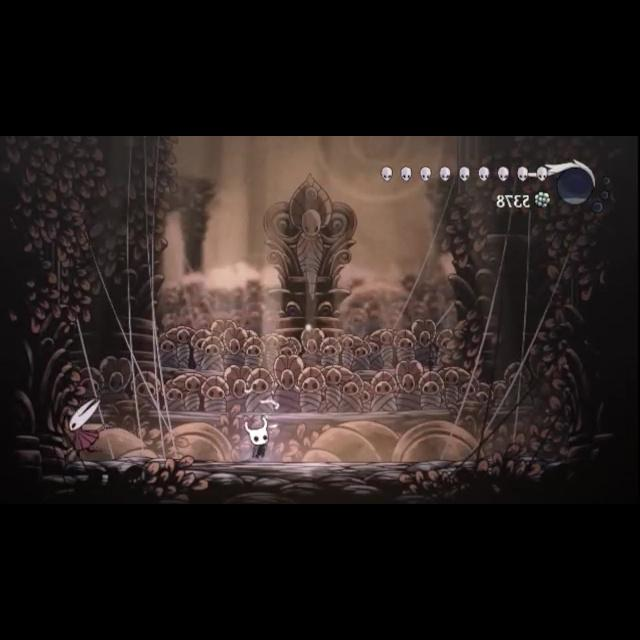Enemy: (59, 391, 112, 464)
Player: (236, 414, 274, 462)
